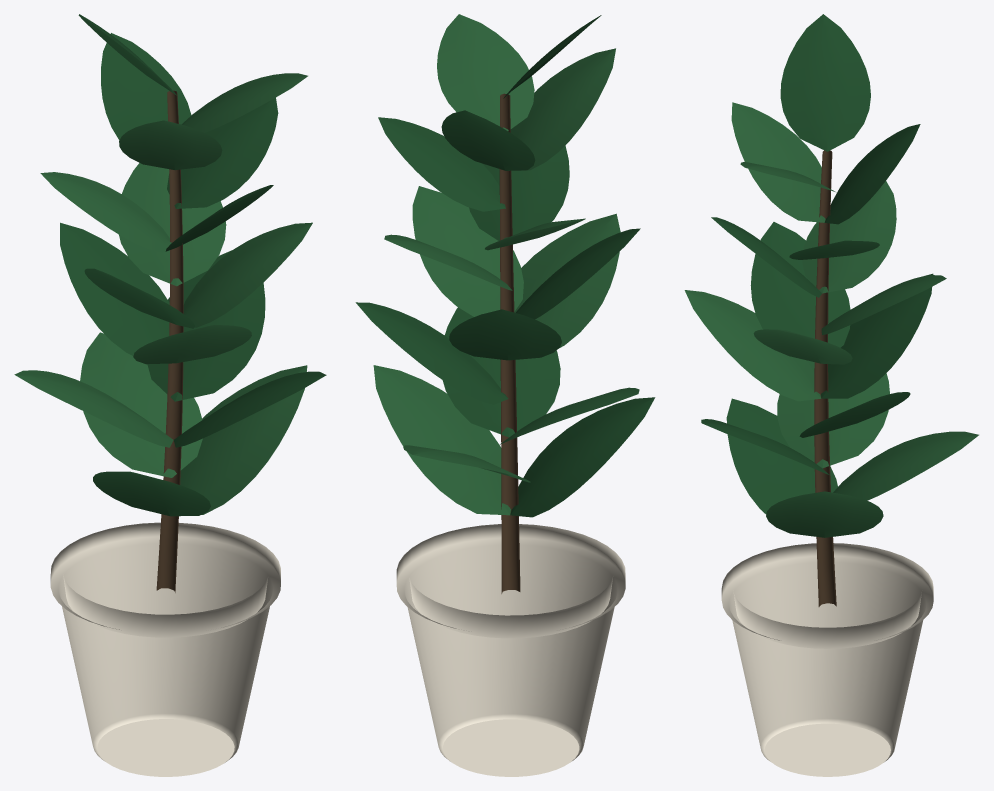
The model's file is rubber_cream_L.glb.
The picture shows the model from 3 angles, left to right: view 1: azimuth 30°, elevation 25°; view 2: azimuth 150°, elevation 25°; view 3: azimuth 270°, elevation 25°; orthographic projection. The views are drawn at different scales.
Parts seen in each view (by area): view 1: Rubber Plant (cream, L); view 2: Rubber Plant (cream, L); view 3: Rubber Plant (cream, L).
Part boxes in pixels (left/top/right/bottom): Rubber Plant (cream, L): left=14, top=14, right=326, bottom=776; Rubber Plant (cream, L): left=355, top=14, right=655, bottom=776; Rubber Plant (cream, L): left=684, top=14, right=978, bottom=776.
Bounding box in the file's own units: 0.4918 × 1.27 × 0.4887.
